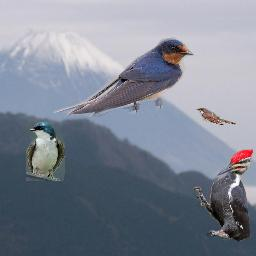Cuckoo: (196, 107, 236, 126)
Swallow: (53, 37, 194, 117), (26, 121, 65, 181)
Woodpecker: (193, 149, 253, 242)
